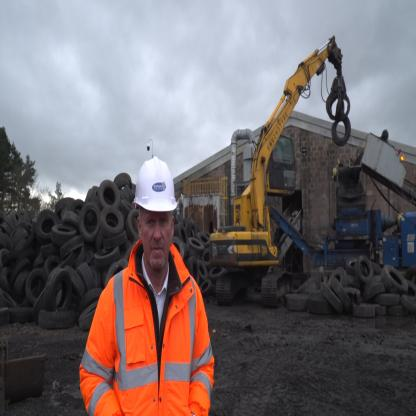person: (77, 145, 214, 416)
